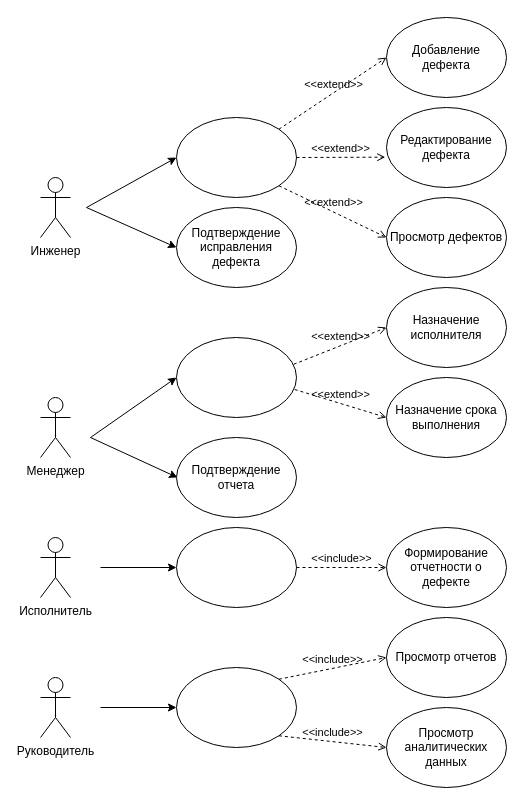
This 524x805 diagram has some shape labels left out. The shapes that lost their labels are listed below. From the top down, each one's centre as x and y in pixels, then its label:
(x=236, y=157): Управление дефектами
(x=236, y=377): Управление процессов работы
(x=236, y=567): Выполнение дефекта
(x=236, y=707): Просмотр сведений о процессе работы
